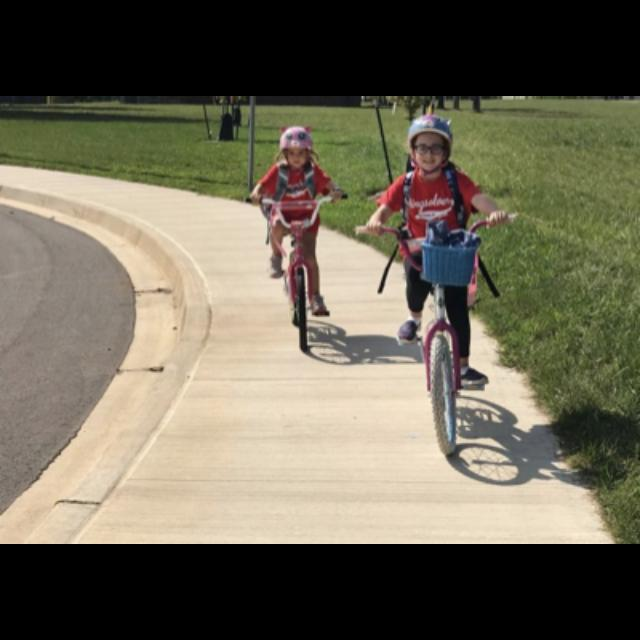With Helmet: (397, 109, 463, 178), (271, 117, 317, 175)
